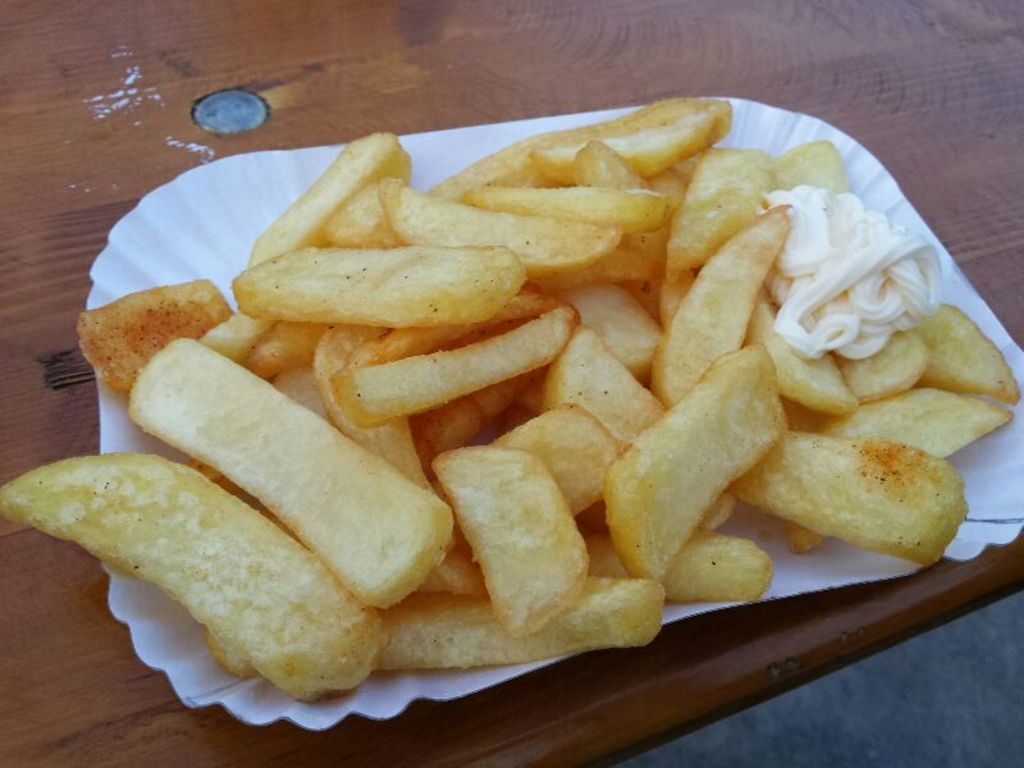French fries: (0, 98, 1022, 704)
